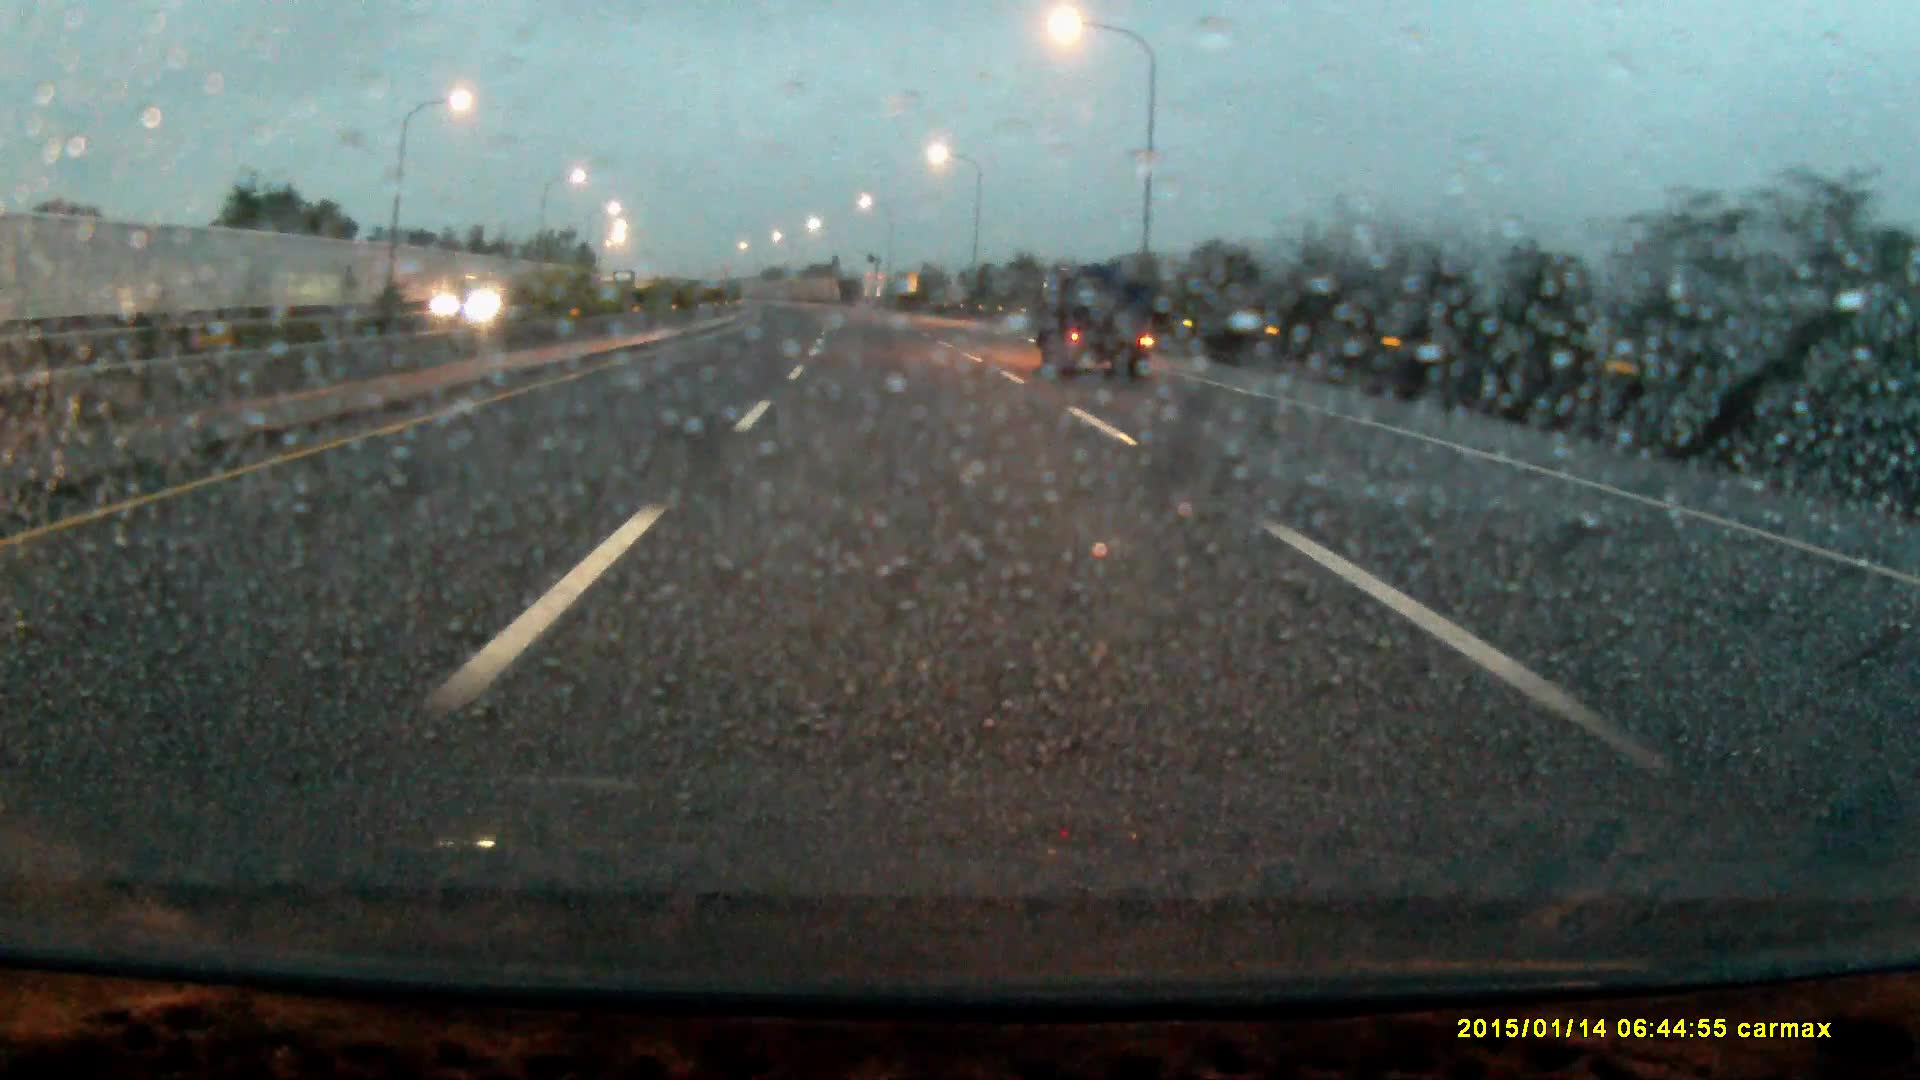vehicle: (1040, 270, 1153, 378), (426, 277, 512, 324), (613, 270, 636, 290)
